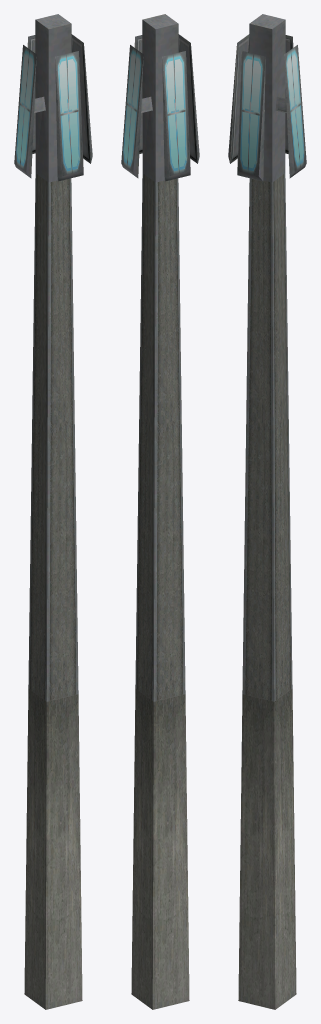
The model's file is frn_all_glow_light_s2_l1.fbx.
3 renders of one model, left to right at view 1: azimuth 30°, elevation 25°; view 2: azimuth 210°, elevation 25°; view 3: azimuth 330°, elevation 25°, orthographic.
Visible parts, largest first — view 1: mesh_node; view 2: mesh_node; view 3: mesh_node.
Part boxes in pixels (bbox=[...]): mesh_node: bbox=[14, 14, 92, 1009]; mesh_node: bbox=[121, 14, 199, 1009]; mesh_node: bbox=[228, 14, 306, 1009].
Size of the model in its own units: 0.3724 by 5.23 by 0.3724.
Materials: 1 (1 with a texture image).
